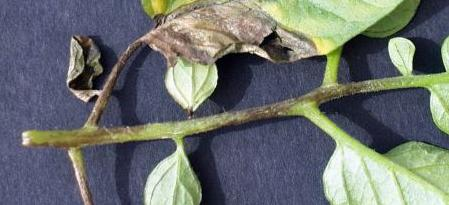Tomato leaf late blight: (128, 0, 441, 84)
